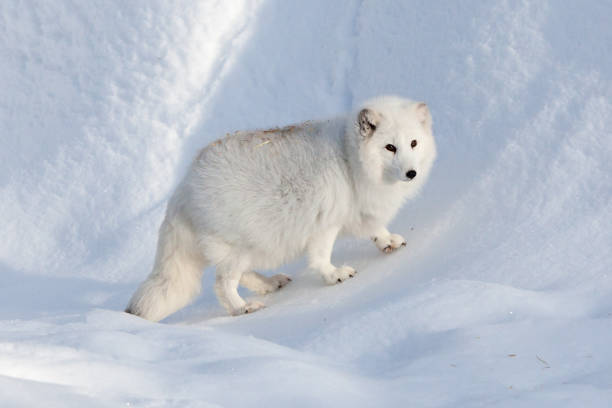arcticfox: (368, 118, 424, 195)
